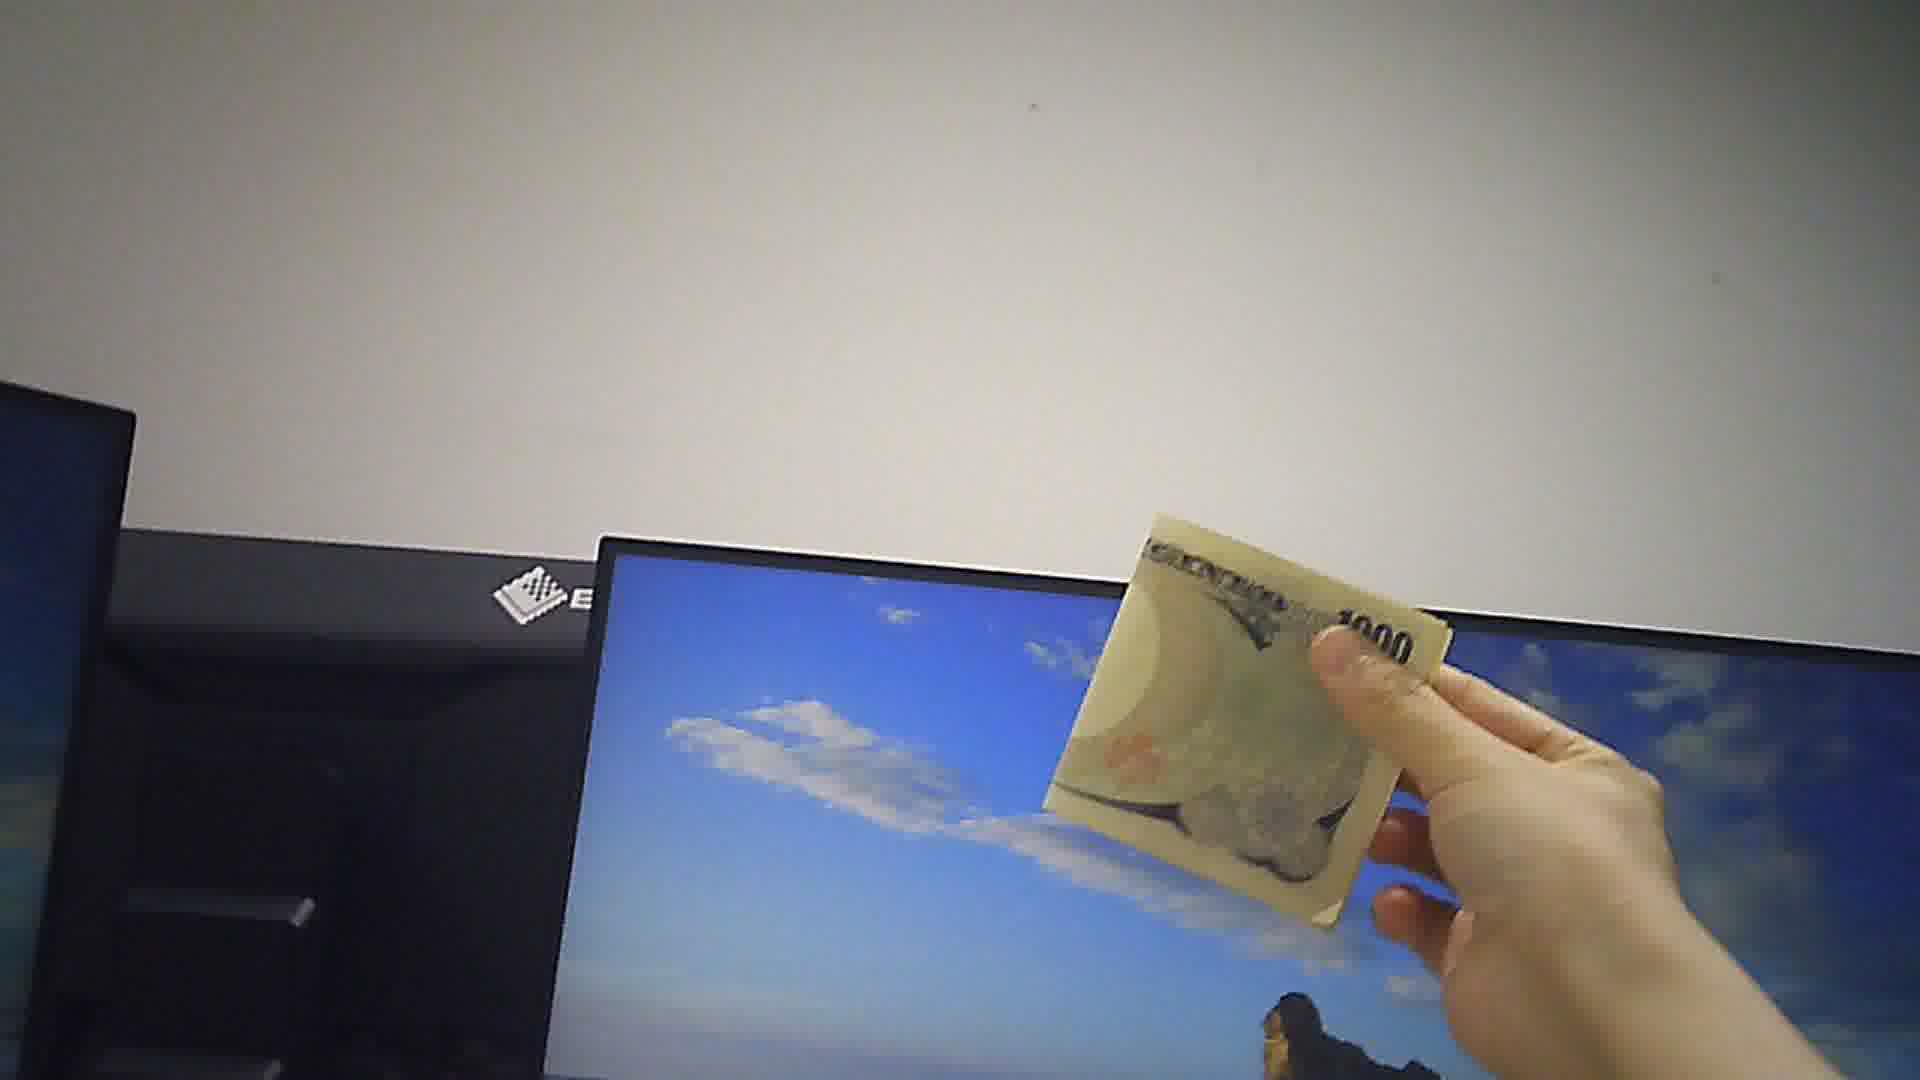1,000 Yen: (1051, 493, 1451, 895)
